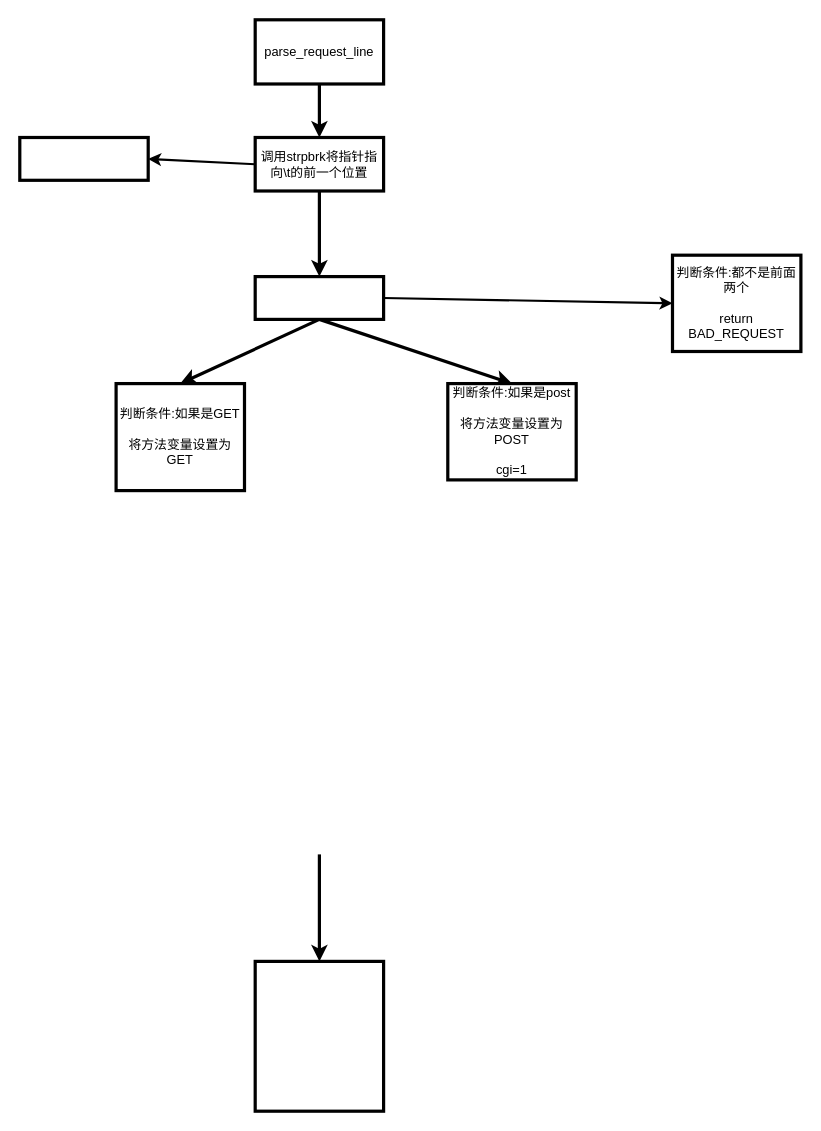
Image size: 821x1131. Some labels were removed from this diagram. The shapes that lost their labels are listed below. From the top down, each one's box as (x1, y1, x2, y2) in pixels, then its label:
(18, 135, 149, 181): return BAD_REQUEST
(253, 274, 385, 320): 将\t改为\0,同时获取刚刚跳过的文本
(253, 959, 385, 1112): return LINE_OPEN;
